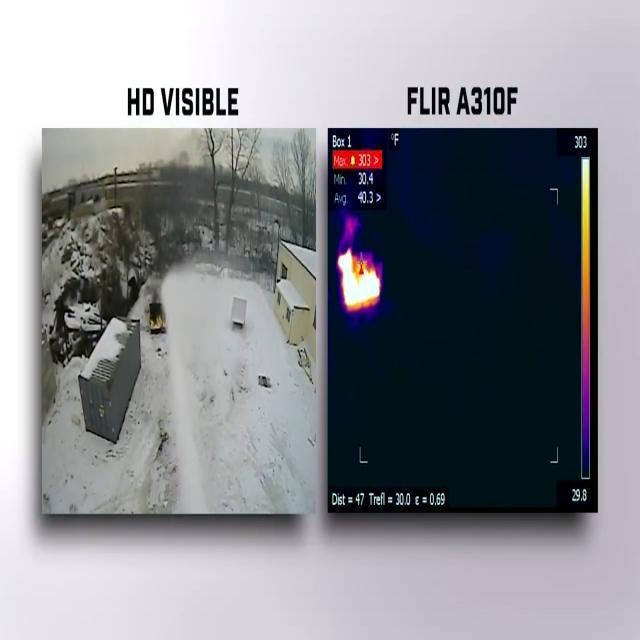fire: (338, 249, 384, 312)
